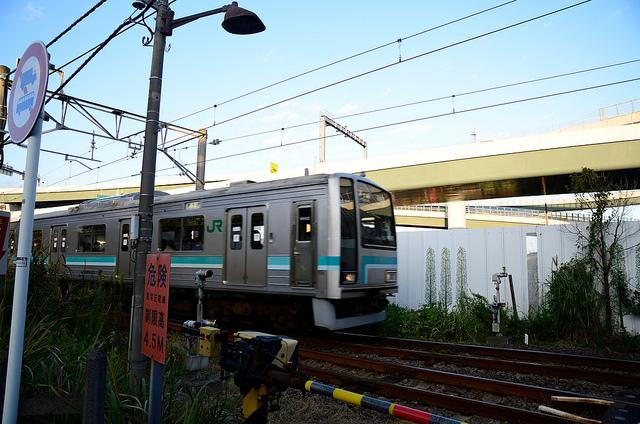Train: (157, 172, 397, 344)
